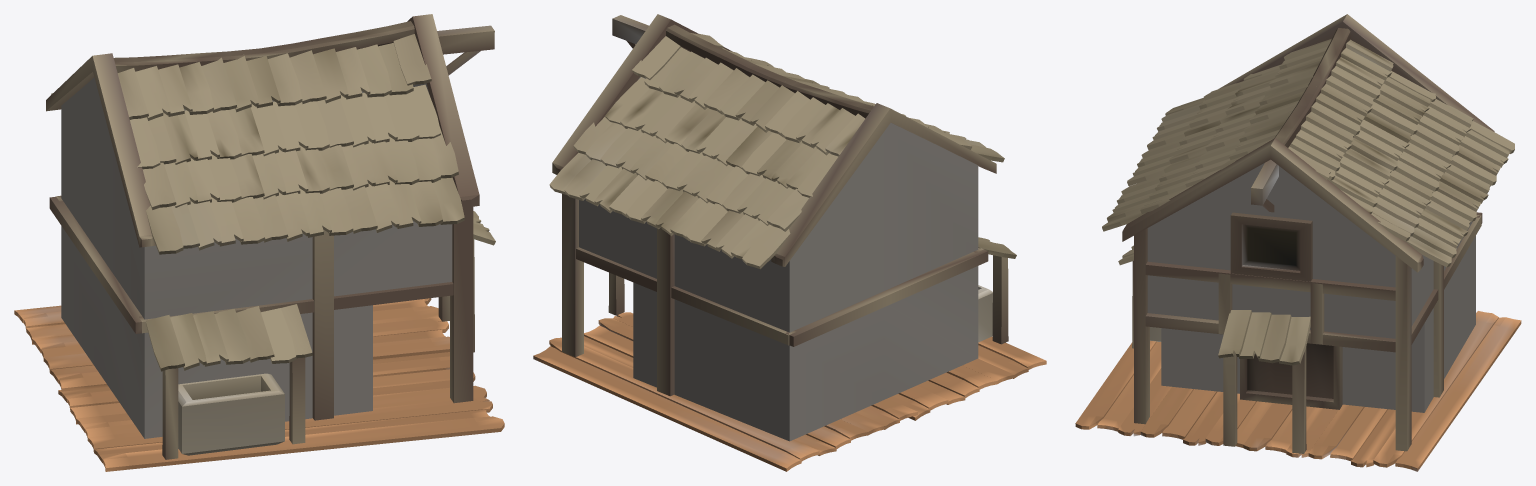
File: House01.fbx
3 views of the same model, side by side, from view 1: azimuth 30°, elevation 25°; view 2: azimuth 150°, elevation 25°; view 3: azimuth 270°, elevation 25° (orthographic). The views are drawn at different scales.
Parts seen in each view (by area): view 1: House01_LOD0; view 2: House01_LOD0; view 3: House01_LOD0.
Boxes of the visible parts, bbox=[...] form: House01_LOD0: bbox=[14, 14, 504, 471]; House01_LOD0: bbox=[533, 14, 1046, 471]; House01_LOD0: bbox=[1075, 14, 1521, 471].
Size of what is drawn, in the model's own units: 269 by 198 by 266.
